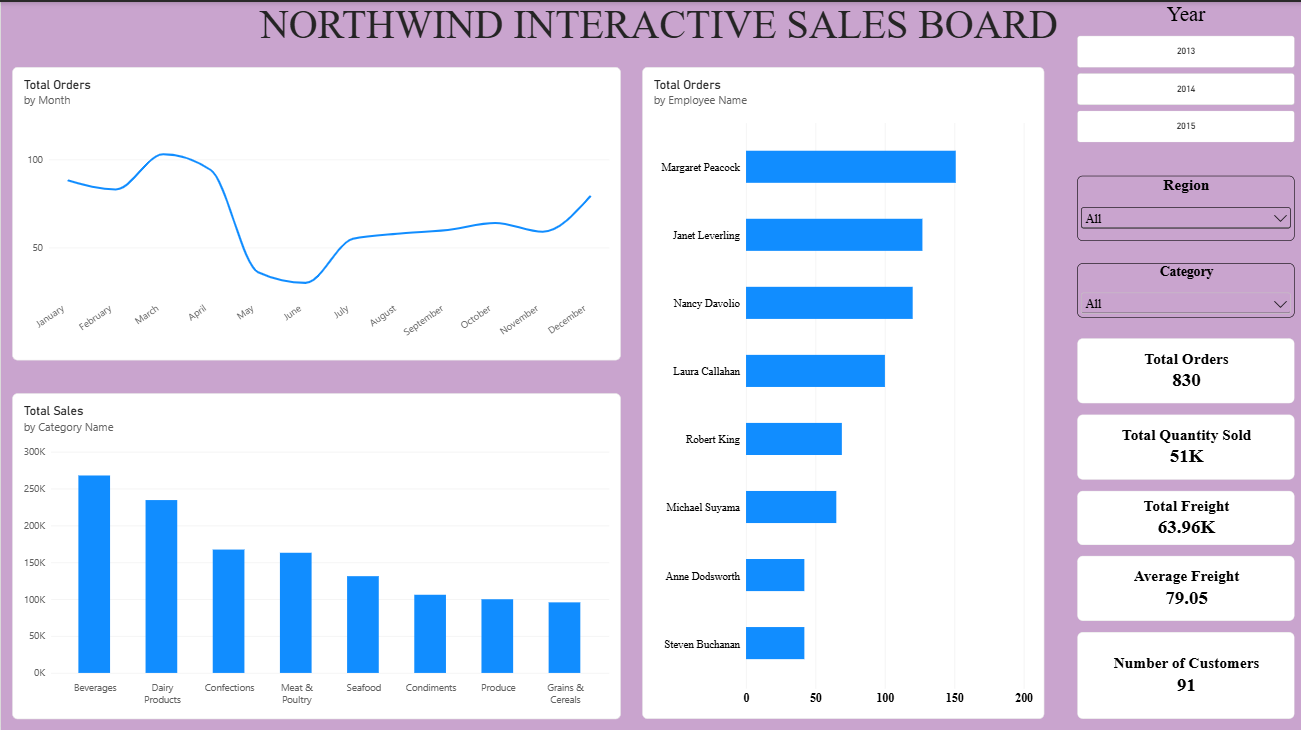

The dashboard page shown, as its layout file describes it:
{"tool":"powerbi","page":{"name":"Interactive Sales Dashboard","canvas":[1920,1080],"ordinal":2},"visuals":[{"type":"textbox","box":[16,0,1904,80],"z":0},{"type":"lineChart","fields":{"Y":["Orders.Total Orders"],"Category":["Orders.Order Date.Variation.Date Hierarchy.Month"]},"box":[16,96,896,432],"z":1},{"type":"clusteredColumnChart","fields":{"Y":["Order Details.Total Sales"],"Category":["Categories.Category Name"]},"box":[16,576,896,480],"z":2},{"type":"barChart","fields":{"Y":["Orders.Total Orders"],"Category":["Employees.Employee Name"]},"box":[944,96,592,960],"z":3},{"type":"advancedSlicerVisual","fields":{"Values":["Orders.Order Date.Variation.Date Hierarchy.Year"]},"box":[1584,0,320,208],"z":4},{"type":"slicer","title":"Region","fields":{"Values":["Customers.Region"]},"box":[1584,256,320,96],"z":5},{"type":"slicer","title":"Category","fields":{"Values":["Categories.Category Name"]},"box":[1584,384,320,80],"z":6},{"type":"cardVisual","fields":{"Data":["Orders.Total Orders"]},"box":[1584,496,320,96],"z":7},{"type":"cardVisual","fields":{"Data":["Order Details.Total Quantity Sold"]},"box":[1584,608,320,96],"z":8},{"type":"cardVisual","fields":{"Data":["Orders.Total Freight"]},"box":[1584,720,320,80],"z":9},{"type":"cardVisual","fields":{"Data":["Orders.Average Freight"]},"box":[1584,816,320,96],"z":10},{"type":"cardVisual","fields":{"Data":["Customers.Number of Customers"]},"box":[1584,928,320,128],"z":11}]}

Visuals, with their boxes in screenshot pixels (x1, y1, x2, y2), scaled from the page's 1920x1080 canvas onto the 1301x730 screenshot:
textbox: [11,0,1300,54]
lineChart - Orders.Total Orders x Orders.Order Date.Variation.Date Hierarchy.Month: [11,65,618,357]
clusteredColumnChart - Order Details.Total Sales x Categories.Category Name: [11,389,618,714]
barChart - Orders.Total Orders x Employees.Employee Name: [640,65,1041,714]
advancedSlicerVisual - Orders.Order Date.Variation.Date Hierarchy.Year: [1073,0,1290,141]
"Region" slicer: [1073,173,1290,238]
"Category" slicer: [1073,260,1290,314]
cardVisual - Orders.Total Orders: [1073,335,1290,400]
cardVisual - Order Details.Total Quantity Sold: [1073,411,1290,476]
cardVisual - Orders.Total Freight: [1073,487,1290,541]
cardVisual - Orders.Average Freight: [1073,552,1290,616]
cardVisual - Customers.Number of Customers: [1073,627,1290,714]
